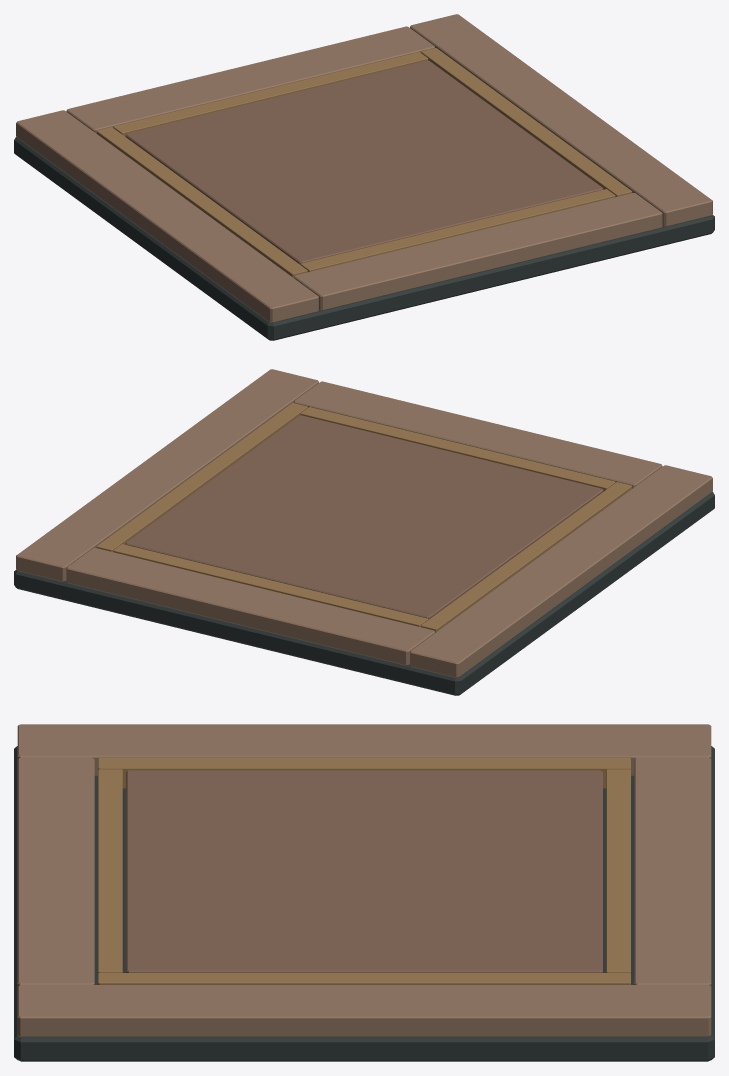
Rendered from floor-inset.glb.
3 renders of one model, top to bottom at view 1: azimuth 30°, elevation 25°; view 2: azimuth 150°, elevation 25°; view 3: azimuth 270°, elevation 25°, orthographic. The views are drawn at different scales.
Parts seen in each view (by area): view 1: floor-inset__body; view 2: floor-inset__body; view 3: floor-inset__body.
Part boxes in pixels (<box>): floor-inset__body: <box>14,14,714,340</box>; floor-inset__body: <box>14,369,714,695</box>; floor-inset__body: <box>14,724,714,1061</box>.
Bounding box in the file's own units: 2 × 0.14 × 2.
